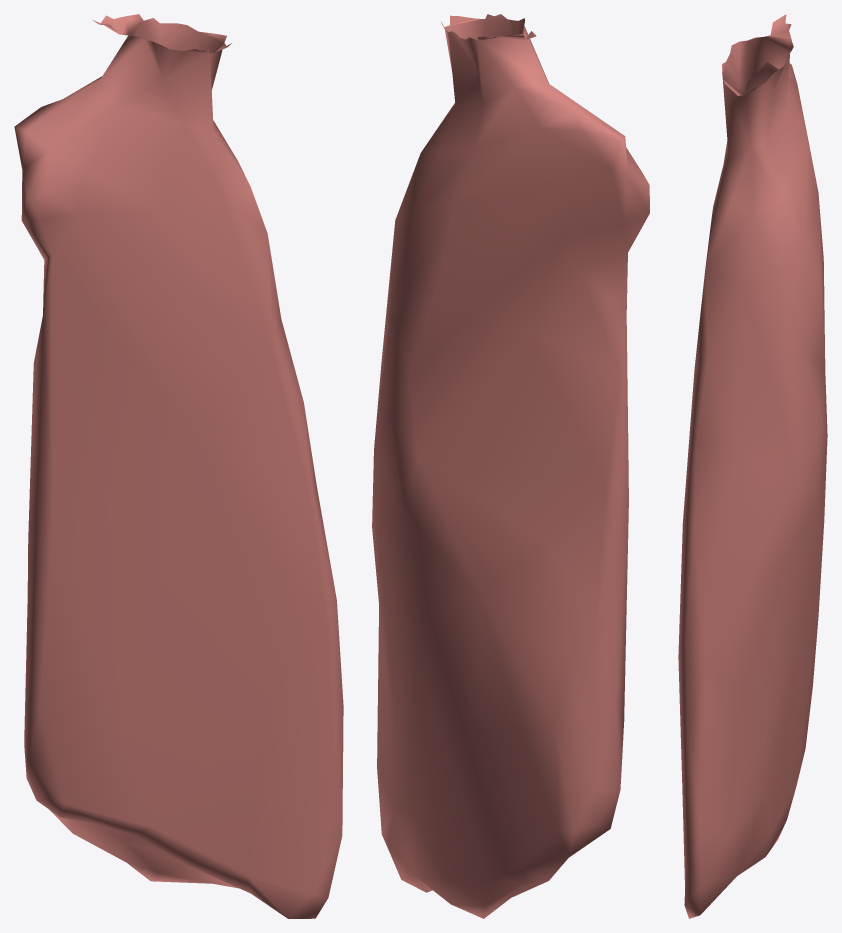
File: fma81558_mm1328.glb
3 renders of one model, left to right at view 1: azimuth 30°, elevation 25°; view 2: azimuth 150°, elevation 25°; view 3: azimuth 270°, elevation 25°, orthographic. The views are drawn at different scales.
Parts seen in each view (by area): view 1: FMA81558_MM1328; view 2: FMA81558_MM1328; view 3: FMA81558_MM1328.
Part boxes in pixels (x1=…): FMA81558_MM1328: x1=14, y1=14, x2=343, y2=918; FMA81558_MM1328: x1=372, y1=14, x2=649, y2=918; FMA81558_MM1328: x1=678, y1=14, x2=827, y2=918.
Bounding box in the file's own units: 0.00514 × 0.0152 × 0.00249.
